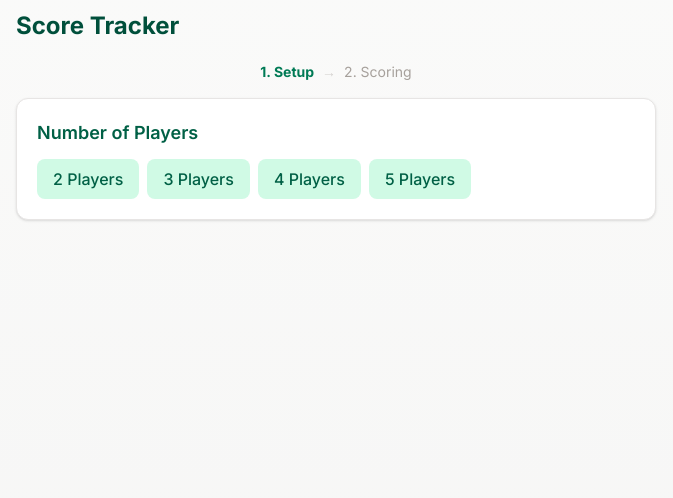
Test case: ScoreTracker › player setup › shows start scoring button after selecting player count
This screenshot has width=673, height=498.
What coordinates should you click on to do the following:
click the button "2 Players"
I would click on:
 (88, 179)
Its box is [37,159,139,199].
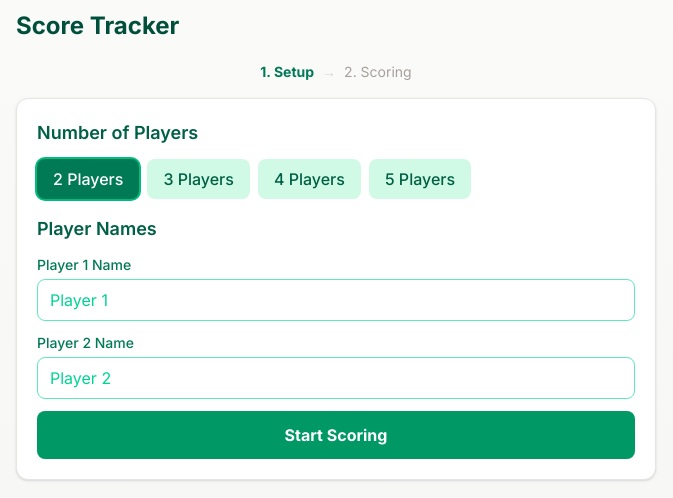
Expected: the button "Start Scoring" is shown, [37,411,635,459]
